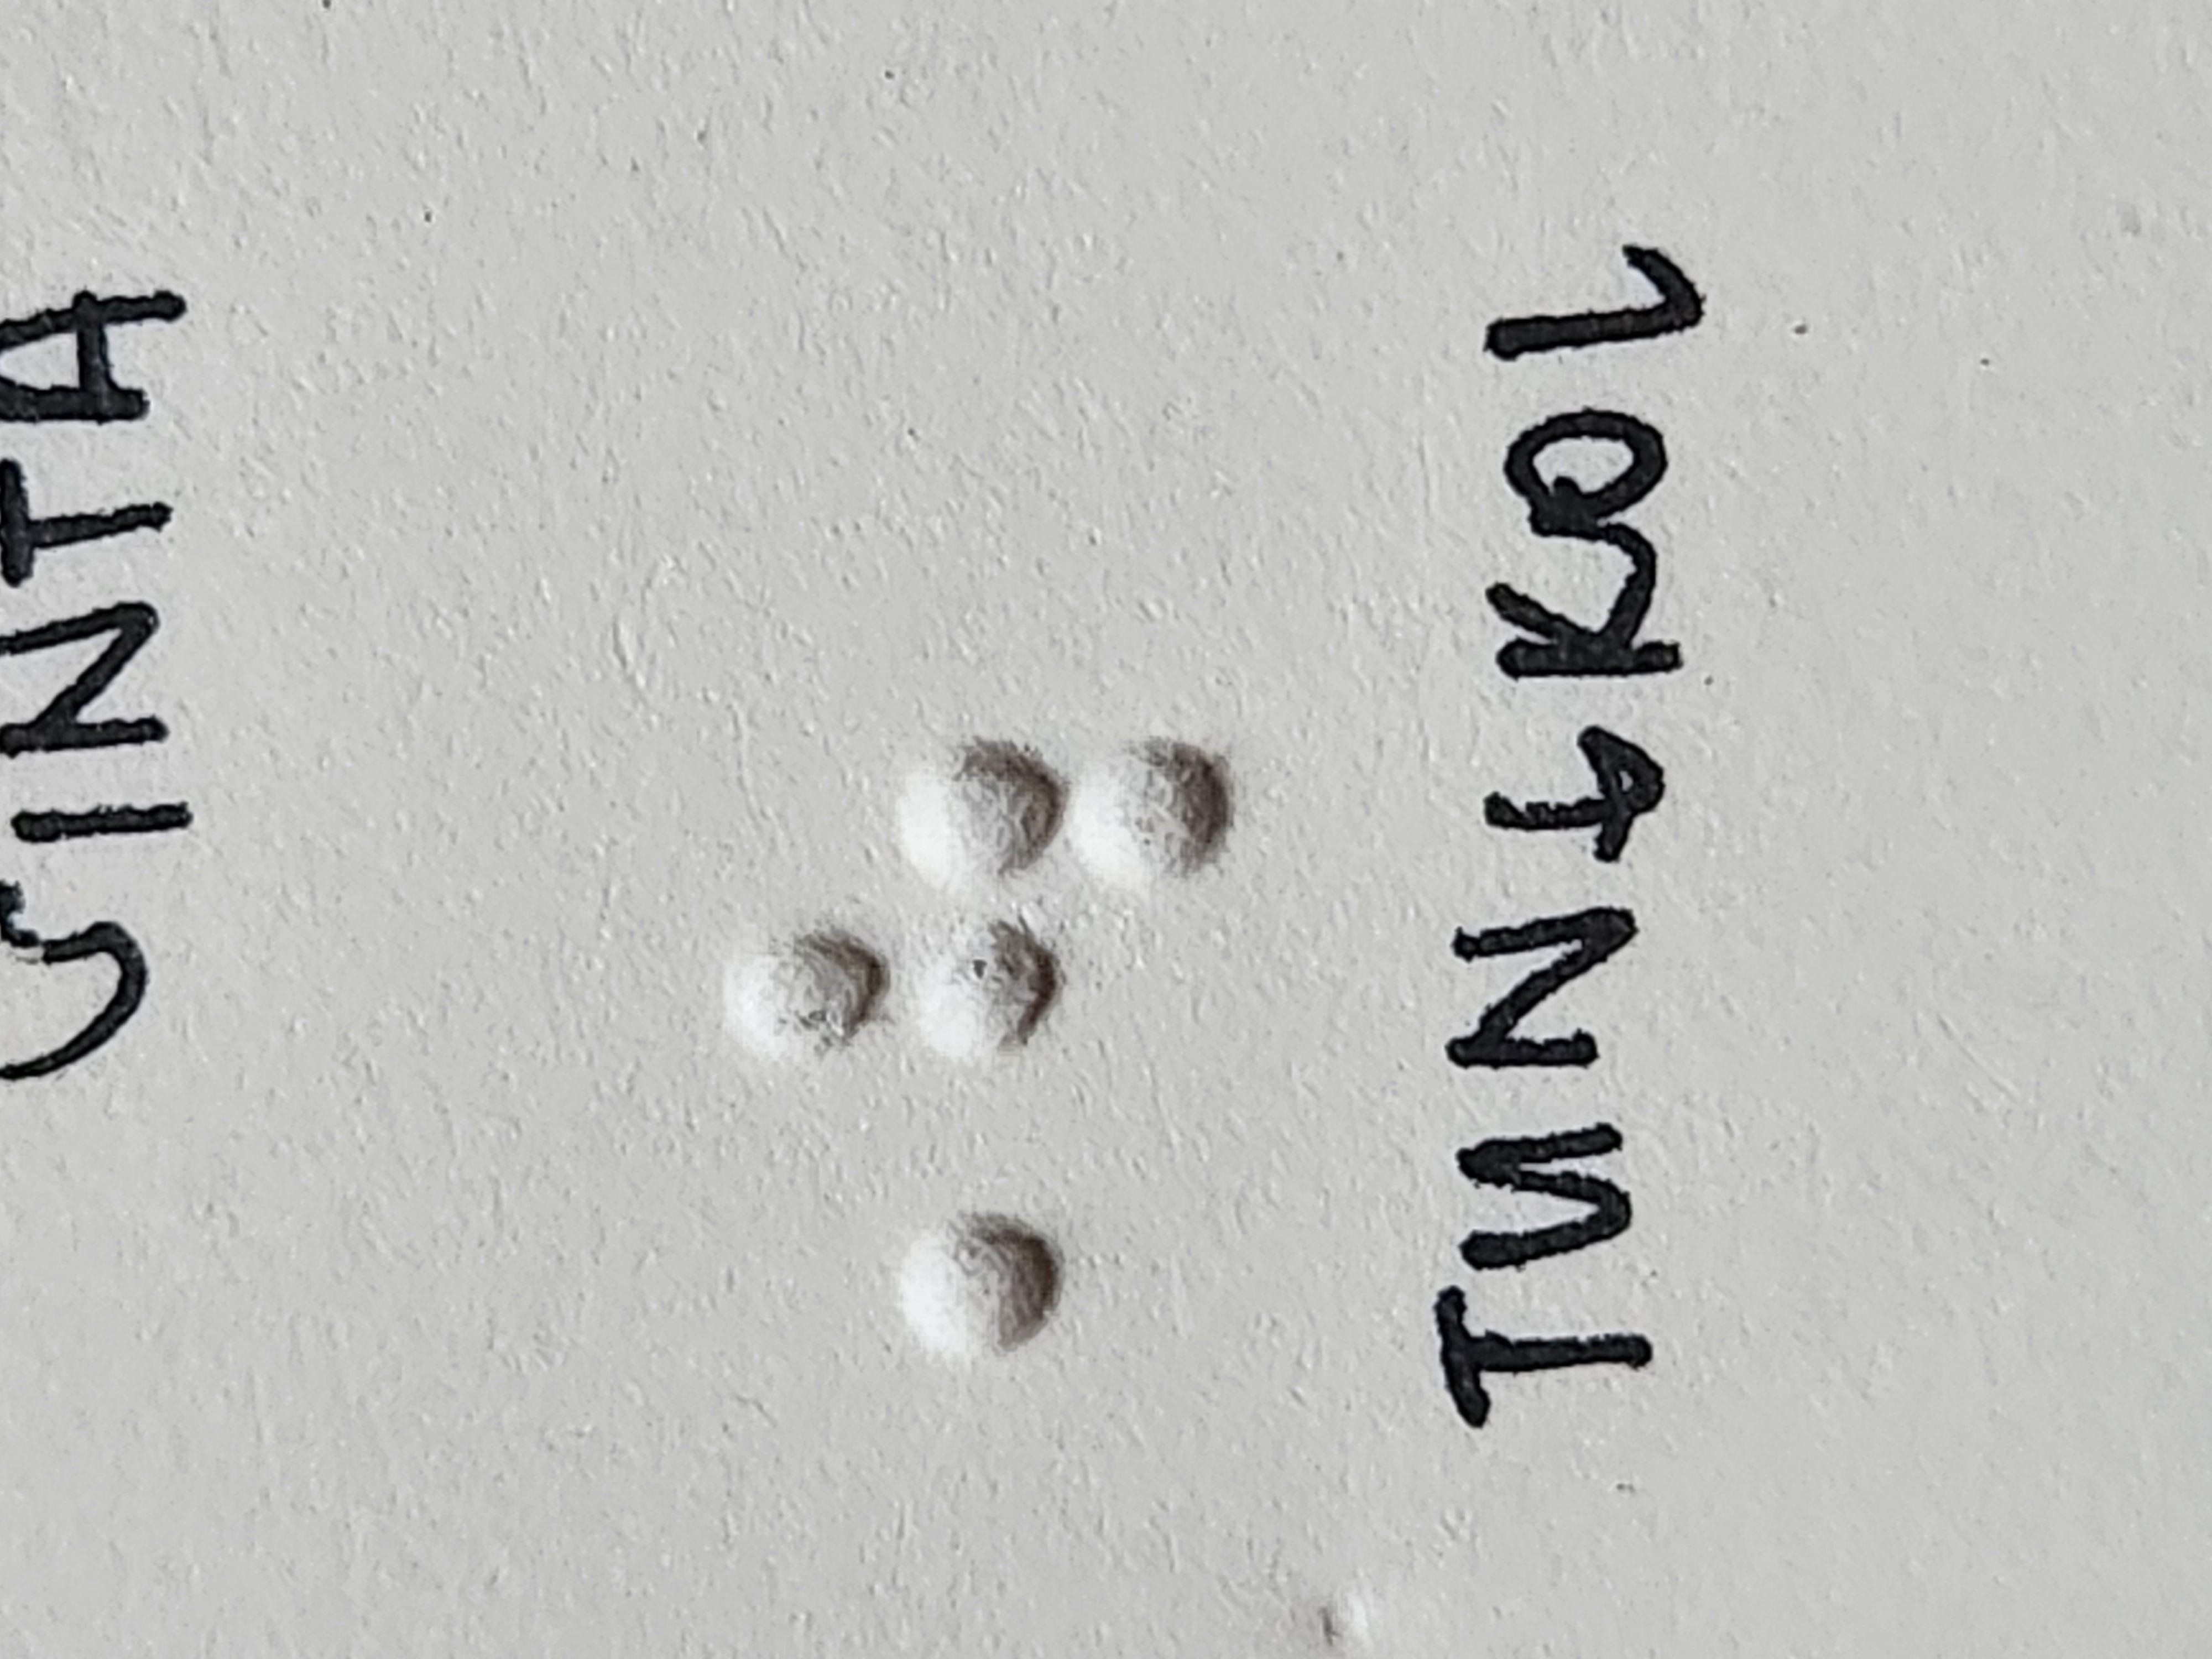dot_5: (179, 540, 603, 925)
two_cell_non_alphabet_tungkol: (798, 544, 1221, 929)
